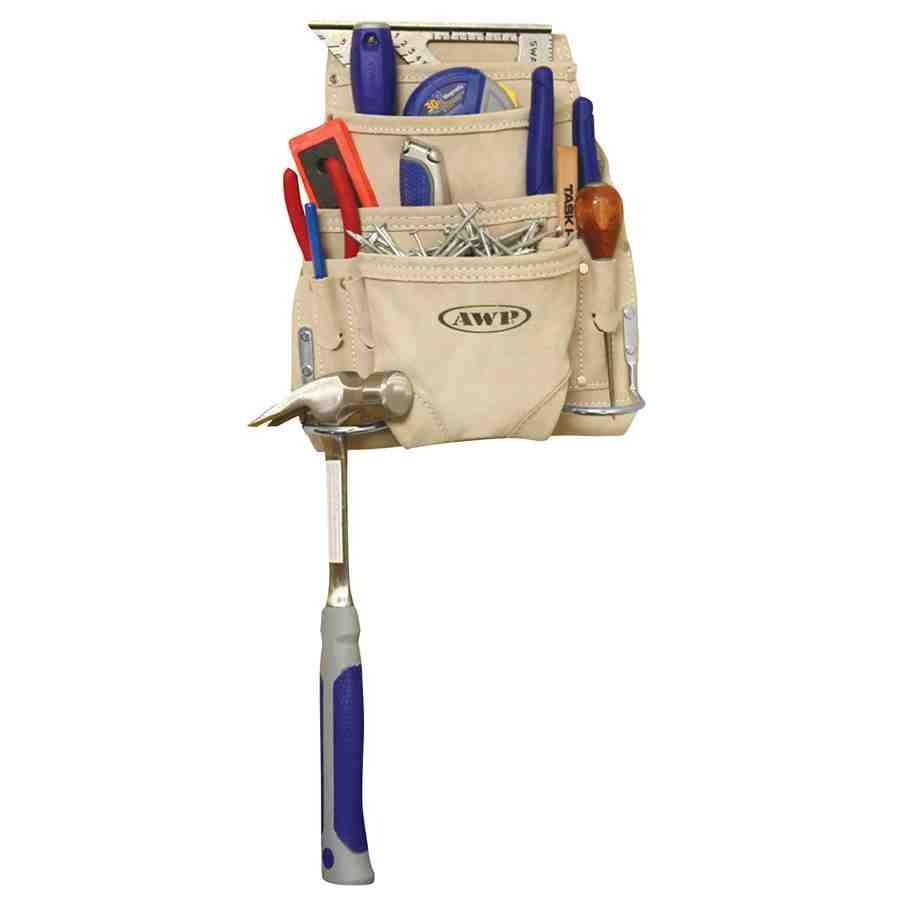hammer: (244, 367, 419, 891)
